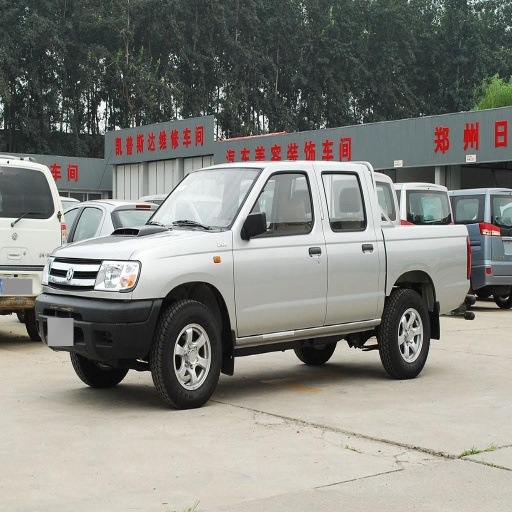back_left_door: (324, 212, 342, 320)
front_bumper: (34, 260, 161, 364)
front_glass: (147, 169, 259, 229)
front_left_door: (234, 171, 327, 335)
trunk: (345, 225, 470, 322)
